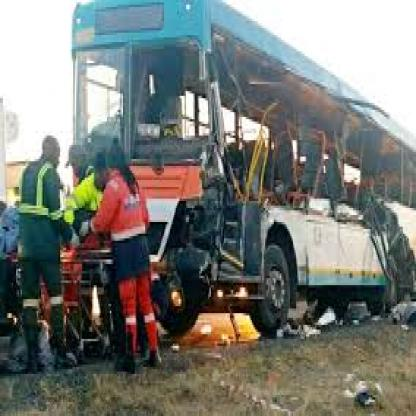accident: (67, 0, 416, 335)
